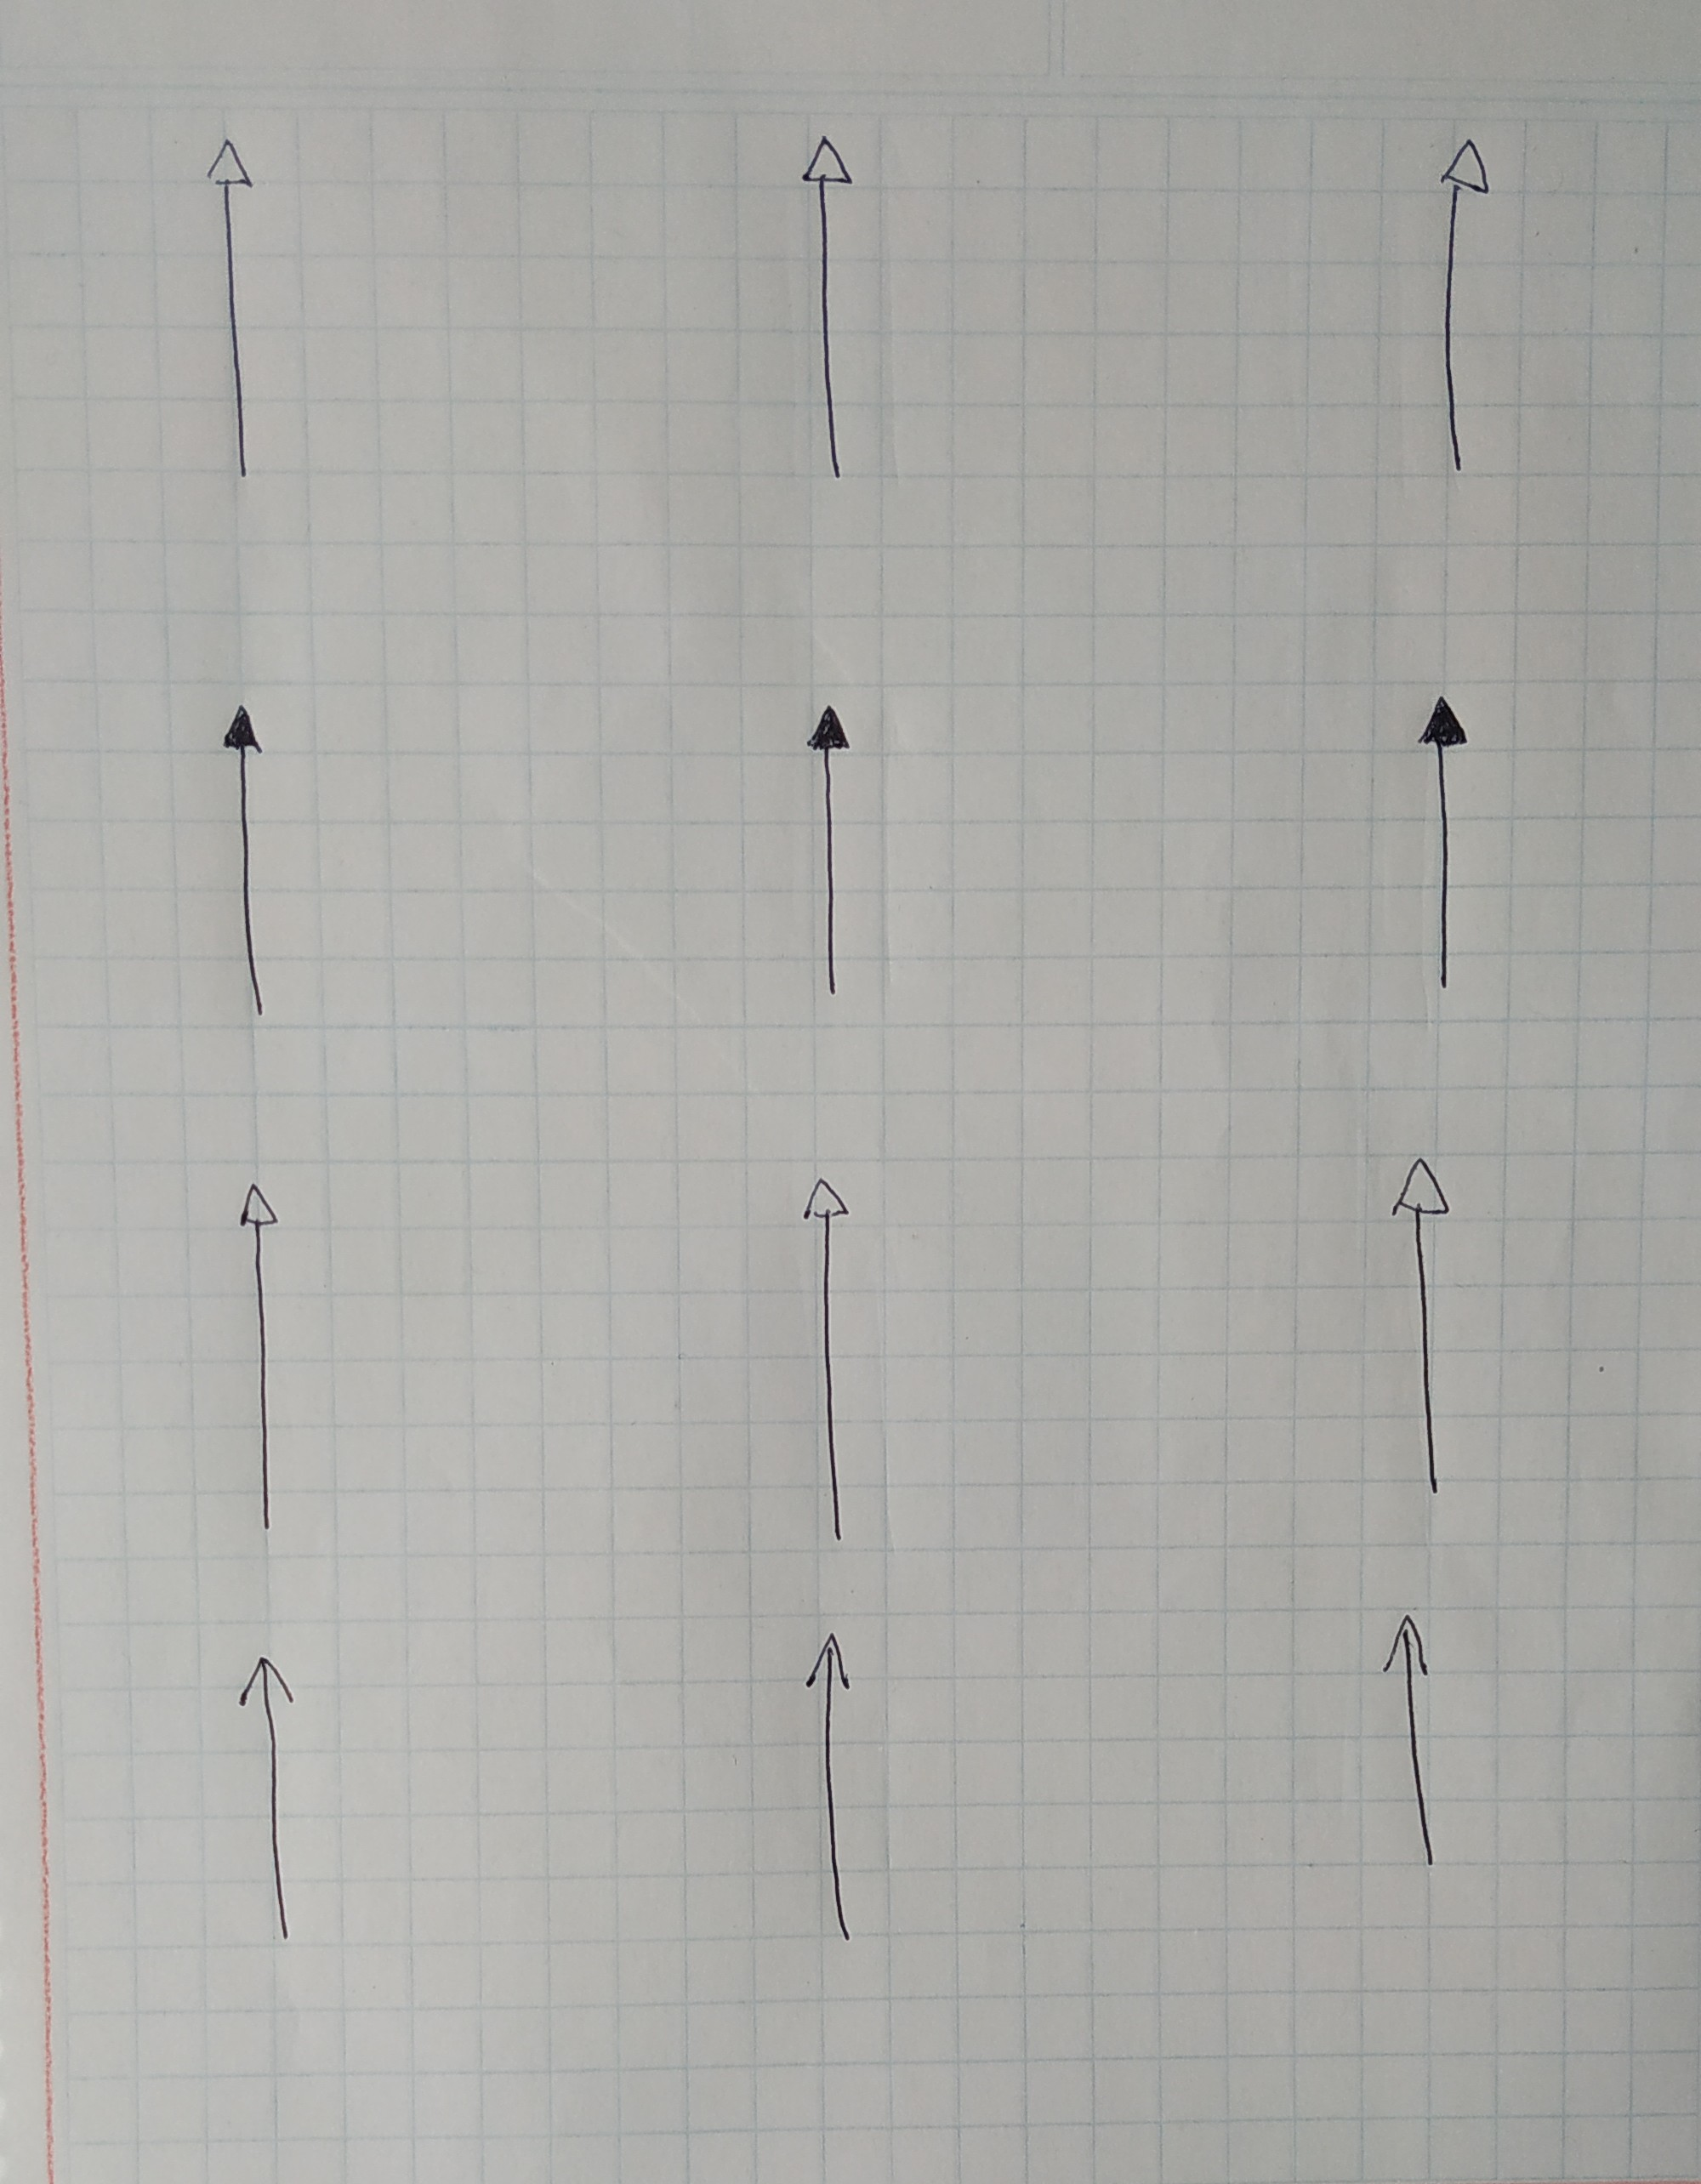arrow_line_up: (1382, 1150, 1469, 1505), (792, 1170, 868, 1548), (221, 1643, 314, 1950), (790, 133, 866, 489), (195, 129, 271, 484), (229, 1170, 298, 1539), (1426, 133, 1495, 495), (797, 1627, 872, 1950), (1371, 1606, 1451, 1888), (213, 693, 276, 1028), (792, 693, 856, 1018), (1410, 688, 1472, 998)
